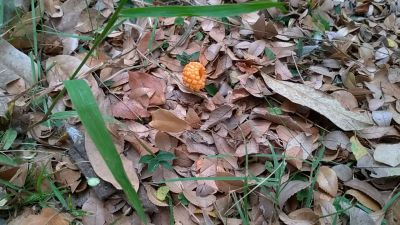eggs: (179, 59, 210, 93)
